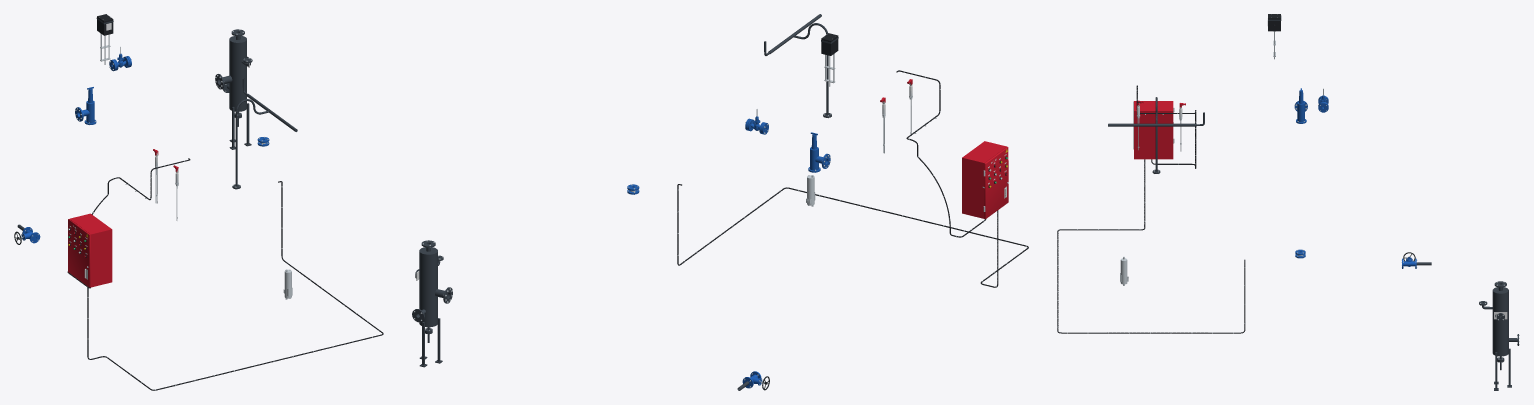
File: s4000-5-DnwZqq89.glb
3 renders of one model, left to right at view 1: azimuth 30°, elevation 25°; view 2: azimuth 150°, elevation 25°; view 3: azimuth 270°, elevation 25°, orthographic. The views are drawn at different scales.
Visible parts, largest first — view 1: separator_fv8 / dark, control_cabinet / control_cabinet_0.npz, cabinet_door / cabinet_door_5.npz, wiring_pump_1 / black, pressure_header / dark, safety_2 / blue, wiring_lcs600 / black; view 2: separator_fv8 / dark, control_cabinet / control_cabinet_0.npz, cabinet_door / cabinet_door_5.npz, wiring_pump_1 / black, pressure_header / dark; view 3: control_cabinet / control_cabinet_0.npz, separator_fv8 / dark, wiring_pump_1 / black, pressure_header / dark.
Part boxes in pixels (x1,y1,x2,y2): separator_fv8 / dark: [215, 29, 252, 149]; control_cabinet / control_cabinet_0.npz: [70, 213, 112, 287]; cabinet_door / cabinet_door_5.npz: [68, 219, 90, 287]; wiring_pump_1 / black: [87, 181, 383, 390]; pressure_header / dark: [232, 78, 297, 189]; safety_2 / blue: [75, 87, 96, 124]; wiring_lcs600 / black: [67, 158, 190, 288]; separator_fv8 / dark: [412, 240, 452, 367]; control_cabinet / control_cabinet_0.npz: [962, 141, 1006, 218]; cabinet_door / cabinet_door_5.npz: [984, 146, 1008, 218]; wiring_pump_1 / black: [677, 184, 1028, 287]; pressure_header / dark: [764, 14, 831, 117]; control_cabinet / control_cabinet_0.npz: [1134, 101, 1173, 159]; separator_fv8 / dark: [1479, 281, 1518, 390]; wiring_pump_1 / black: [1057, 159, 1245, 333]; pressure_header / dark: [1108, 97, 1204, 173].
Bounding box in the file's own units: 5.15 × 3.82 × 6.24.
